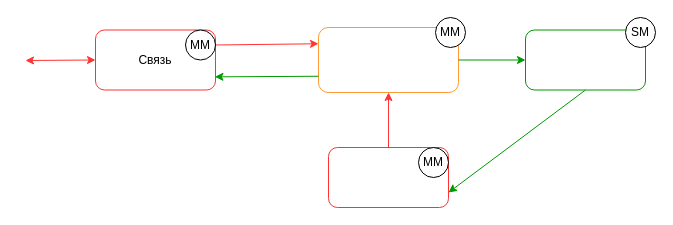
This 673x225 diagram has some shape labels left out. The shapes that lost their labels are listed below. From the top down, each one's box as (x1, y1, x2, y2) in pixels, then its label:
(318, 26, 458, 92): Система управления производством
(524, 29, 646, 90): Робот-фармацевт
(328, 146, 448, 208): Система диагностики
